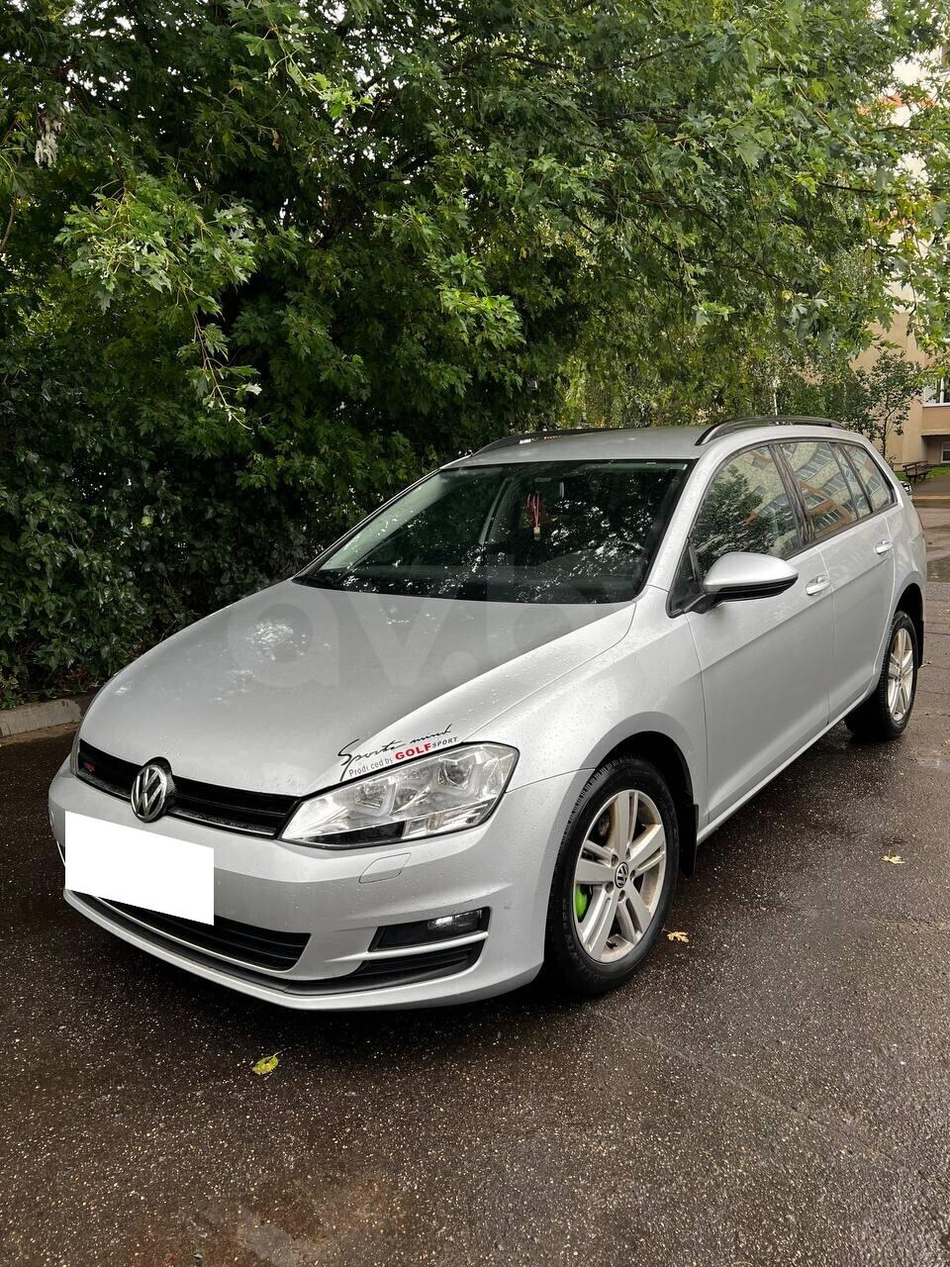Golf_2012-2017: (42, 411, 928, 1015)
